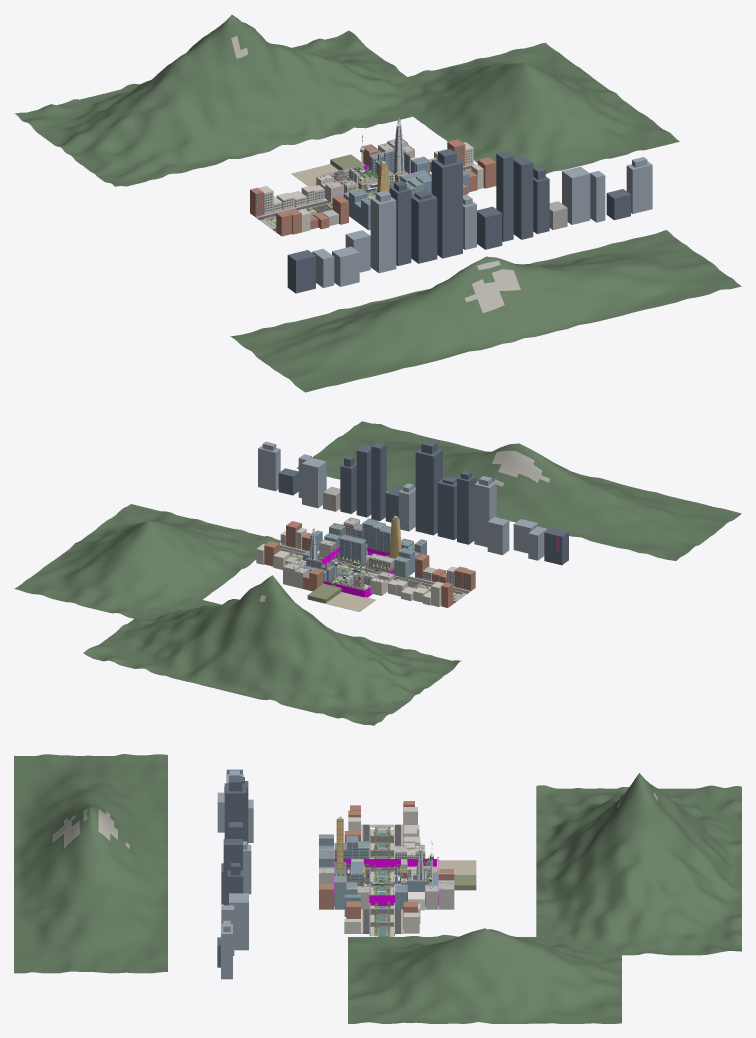
The model's file is seoul.glb.
3 views of the same model, one above another, from view 1: azimuth 30°, elevation 25°; view 2: azimuth 150°, elevation 25°; view 3: azimuth 270°, elevation 25° (orthographic). The views are drawn at different scales.
Visible parts, largest first — view 1: Mountain_Bugaksan_North, Mountain_Ridge_South, Mountain_Ridge_East, Skyline_Across_River_07, Skyline_Across_River_04, Skyline_Across_River_06, Skyline_Across_River_11, Skyline_Across_River_14, Skyline_Across_River_10, Skyline_Across_River_05, Skyline_Across_River_17, Skyline_Across_River_00 (+8 smaller); view 2: Mountain_Bugaksan_North, Mountain_Ridge_South, Mountain_Ridge_East, Skyline_Across_River_07, Skyline_Across_River_04, Skyline_Across_River_05, Skyline_Across_River_06, Skyline_Across_River_10, Skyline_Across_River_11, Skyline_Across_River_14, Skyline_Across_River_17, Skyline_Across_River_12 (+8 smaller); view 3: Mountain_Bugaksan_North, Mountain_Ridge_South, Mountain_Ridge_East, Skyline_Across_River_07, Skyline_Across_River_14, Far_Cheonggye_Side_Roads, Skyline_Across_River_11, Skyline_Across_River_17, Boundary_West, Skyline_Across_River_12, Palace_Ground_North, Skyline_Across_River_08.
Part boxes in pixels (box(x1,y1,x2,y2)): Mountain_Bugaksan_North: box(14, 14, 425, 186); Mountain_Ridge_South: box(230, 230, 741, 392); Mountain_Ridge_East: box(394, 42, 679, 173); Skyline_Across_River_07: box(431, 149, 462, 258); Skyline_Across_River_04: box(370, 190, 396, 273); Skyline_Across_River_06: box(411, 190, 437, 263); Skyline_Across_River_11: box(513, 156, 533, 239); Skyline_Across_River_14: box(562, 166, 590, 224); Skyline_Across_River_10: box(496, 151, 513, 241); Skyline_Across_River_05: box(389, 181, 411, 265); Skyline_Across_River_17: box(626, 157, 652, 213); Skyline_Across_River_00: box(287, 250, 315, 293); Mountain_Bugaksan_North: box(83, 575, 460, 725); Mountain_Ridge_South: box(296, 421, 741, 560); Mountain_Ridge_East: box(14, 504, 280, 619); Skyline_Across_River_07: box(415, 440, 442, 535); Skyline_Across_River_04: box(474, 476, 496, 547); Skyline_Across_River_05: box(457, 470, 475, 544); Skyline_Across_River_06: box(437, 476, 456, 539); Skyline_Across_River_10: box(371, 442, 386, 520); Skyline_Across_River_11: box(356, 444, 371, 517); Skyline_Across_River_14: box(302, 457, 326, 508); Skyline_Across_River_17: box(258, 441, 280, 491); Skyline_Across_River_12: box(340, 455, 356, 513); Mountain_Bugaksan_North: box(536, 773, 741, 955); Mountain_Ridge_South: box(14, 754, 167, 973); Mountain_Ridge_East: box(348, 928, 621, 1023); Skyline_Across_River_07: box(224, 776, 246, 841); Skyline_Across_River_14: box(229, 893, 248, 950); Far_Cheonggye_Side_Roads: box(361, 824, 403, 933); Skyline_Across_River_11: box(223, 839, 242, 905); Skyline_Across_River_17: box(221, 920, 232, 979); Boundary_West: box(334, 859, 436, 867); Skyline_Across_River_12: box(227, 863, 243, 905); Palace_Ground_North: box(439, 860, 476, 874); Skyline_Across_River_08: box(243, 841, 251, 894).
Size of the model in its own units: 740 by 133 by 850.
